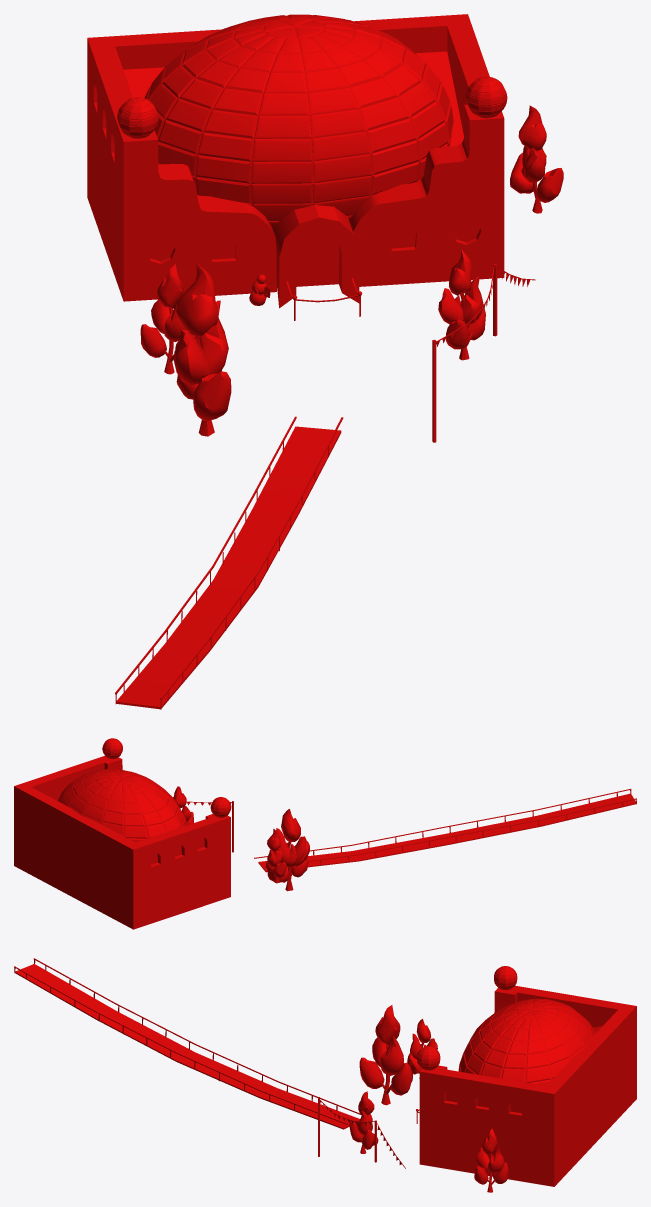
The model's file is Neighborhood_PoomPoomPalaceLocked.glb.
3 renders of one model, top to bottom at view 1: azimuth 30°, elevation 25°; view 2: azimuth 150°, elevation 25°; view 3: azimuth 270°, elevation 25°, orthographic. The views are drawn at different scales.
Parts seen in each view (by area): view 1: polySurface378, pasted__Object_Bridge, Tree_13, Tree_15, Tree_16, Tree_14; view 2: polySurface378, pasted__Object_Bridge, Tree_13, Tree_14, Tree_15; view 3: polySurface378, pasted__Object_Bridge, Tree_13, Tree_16, Tree_15, Tree_14, Object_Flag_01.
Boxes of the visible parts, x1,y1,x2,y2 form: polySurface378: [87, 14, 507, 308]; pasted__Object_Bridge: [115, 416, 343, 709]; Tree_13: [173, 263, 231, 436]; Tree_15: [438, 249, 485, 360]; Tree_16: [510, 105, 563, 213]; Tree_14: [140, 264, 195, 374]; polySurface378: [14, 738, 231, 929]; pasted__Object_Bridge: [254, 789, 636, 872]; Tree_13: [267, 809, 309, 891]; Tree_14: [266, 828, 286, 883]; Tree_15: [173, 786, 193, 824]; polySurface378: [417, 966, 636, 1186]; pasted__Object_Bridge: [14, 958, 361, 1129]; Tree_13: [359, 1005, 412, 1105]; Tree_16: [474, 1128, 508, 1192]; Tree_15: [349, 1091, 378, 1153]; Tree_14: [407, 1019, 437, 1078]; Object_Flag_01: [318, 1098, 405, 1168].
Size of the model in its own units: 33.35 by 10.49 by 37.27.
